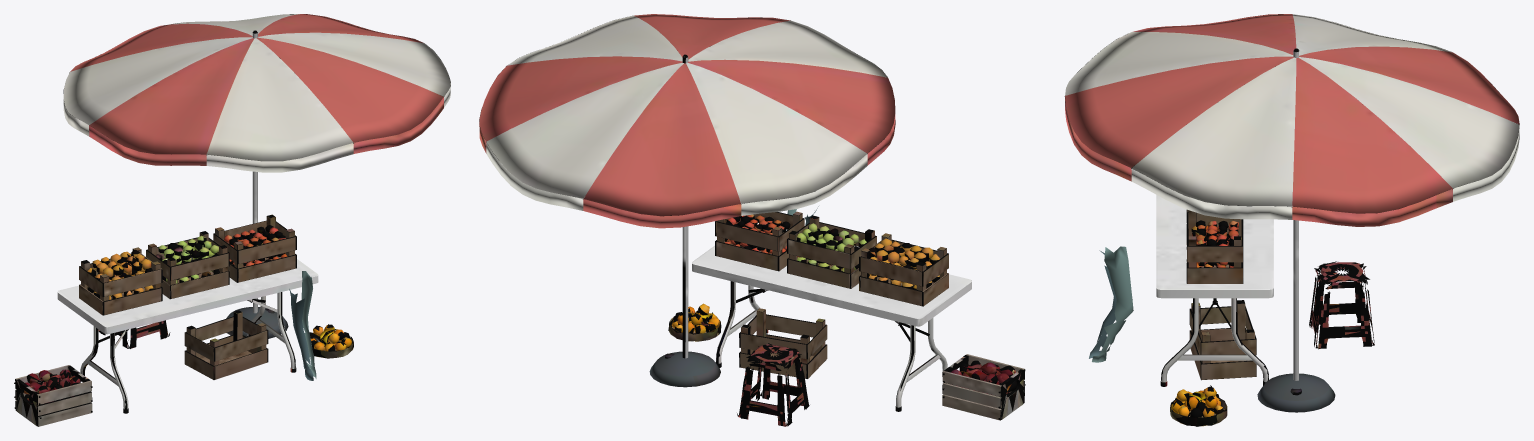
The picture shows the model from 3 angles, left to right: view 1: azimuth 30°, elevation 25°; view 2: azimuth 150°, elevation 25°; view 3: azimuth 270°, elevation 25°; orthographic projection. The views are drawn at different scales.
Parts seen in each view (by area): view 1: turban20261017_w012_props, turban20261017_w012; view 2: turban20261017_w012_props; view 3: turban20261017_w012_props, turban20261017_w012.
Boxes of the visible parts, x1,y1,x2,y2 form: turban20261017_w012_props: (14, 14, 450, 426); turban20261017_w012: (289, 271, 316, 380); turban20261017_w012_props: (479, 14, 1025, 426); turban20261017_w012_props: (1064, 14, 1519, 426); turban20261017_w012: (1089, 246, 1133, 362).
Size of the model in its own units: 3.63 by 2.35 by 2.86.
Materials: 2 (2 with a texture image).
